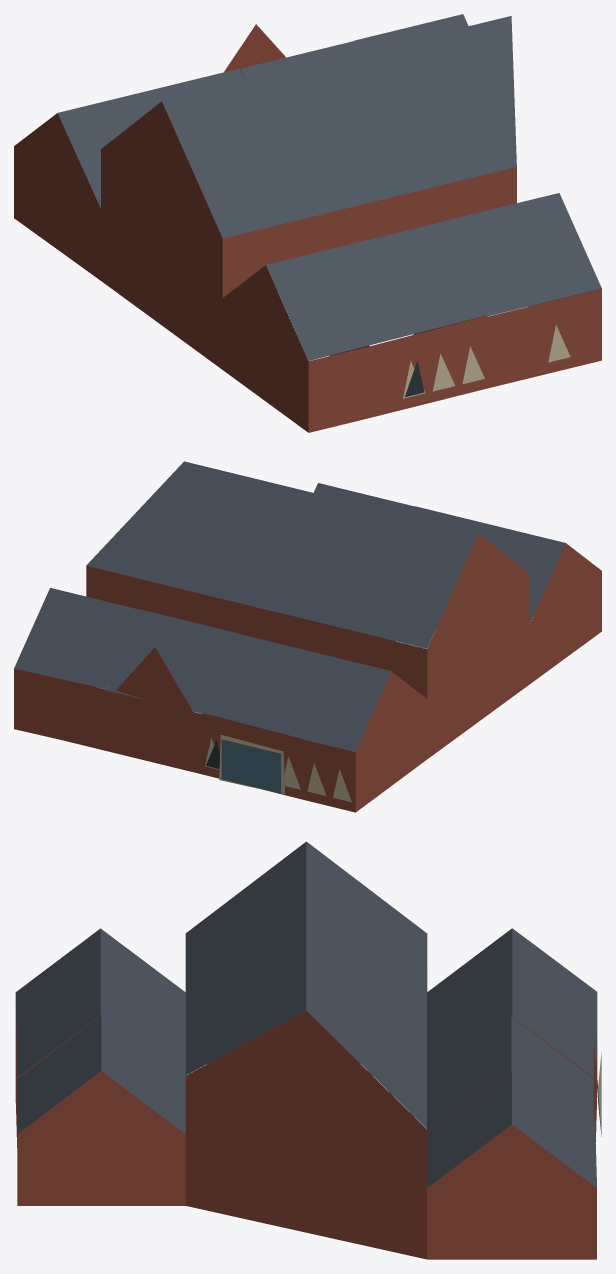
File: amsterdam-in-motion.lod2.glb
3 renders of one model, top to bottom at view 1: azimuth 30°, elevation 25°; view 2: azimuth 150°, elevation 25°; view 3: azimuth 270°, elevation 25°, orthographic. The views are drawn at different scales.
Parts seen in each view (by area): view 1: lod2; view 2: lod2; view 3: lod2.
Part boxes in pixels (x1,y1,x2,y2): lod2: (14,14,601,432); lod2: (14,461,601,812); lod2: (15,841,601,1259).
Size of the model in its own units: 32.88 by 17.36 by 41.62.
